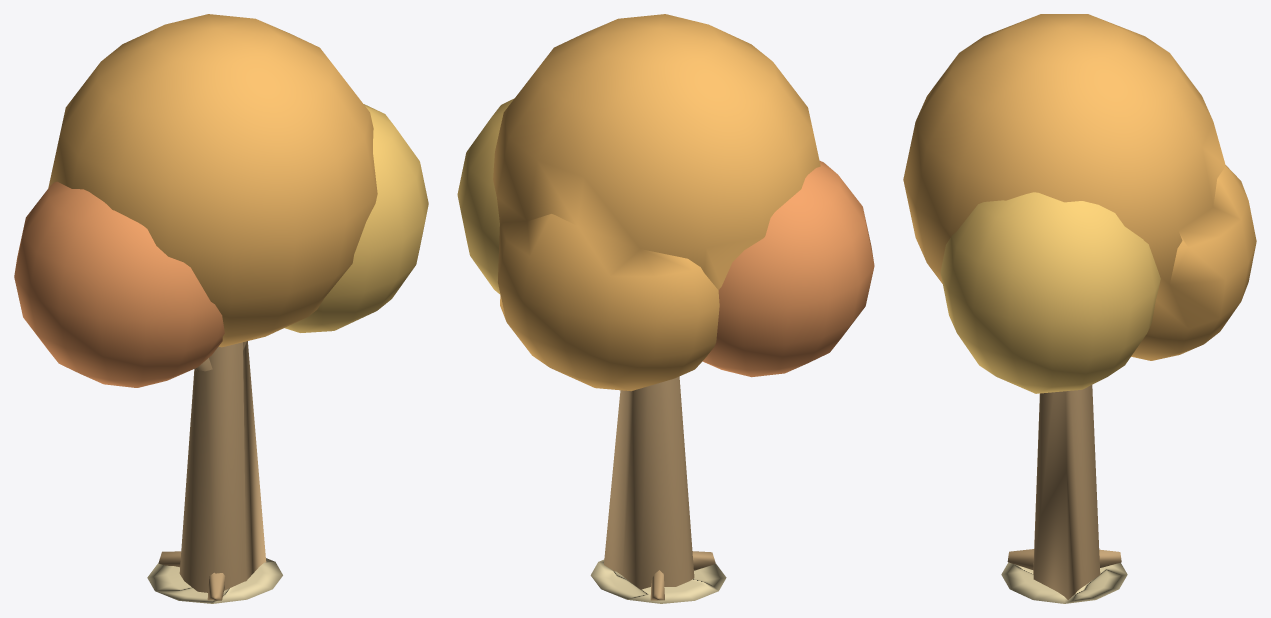
File: tree_v1_autumn_low.glb
3 renders of one model, left to right at view 1: azimuth 30°, elevation 25°; view 2: azimuth 150°, elevation 25°; view 3: azimuth 270°, elevation 25°, orthographic.
Size of the model in its own units: 3.6 by 4.9 by 2.85.
